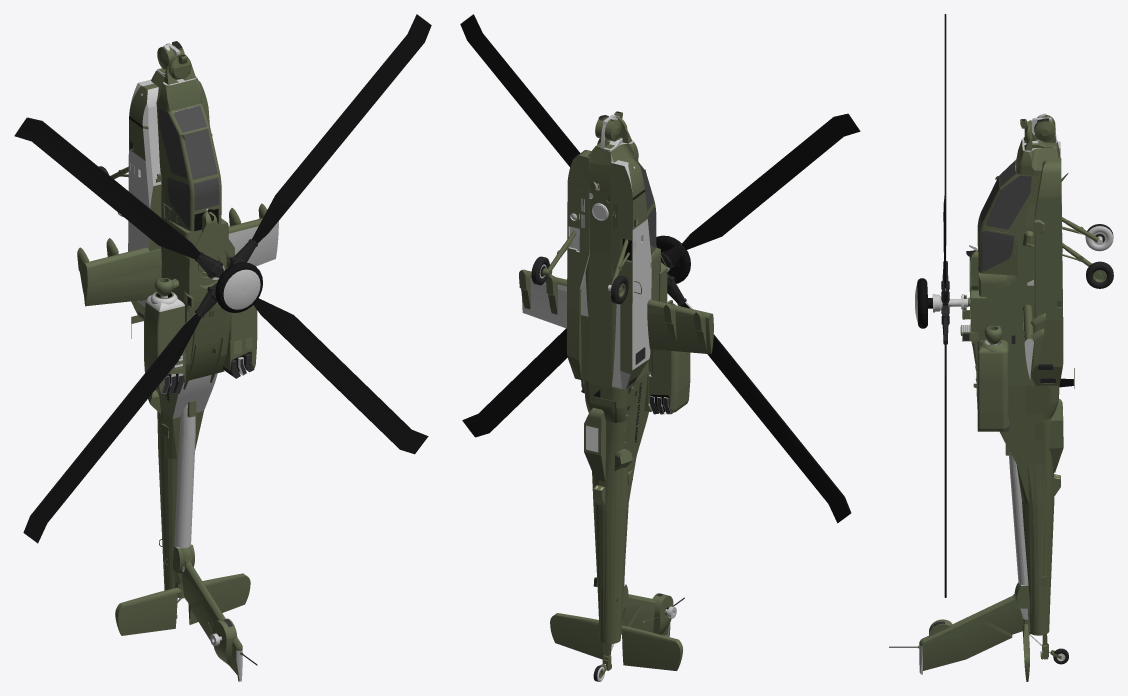
The model's file is 阿帕奇1.obj.
The picture shows the model from 3 angles, left to right: view 1: azimuth 30°, elevation 25°; view 2: azimuth 150°, elevation 25°; view 3: azimuth 270°, elevation 25°; orthographic projection. The views are drawn at different scales.
Visible parts, largest first — view 1: obj285, obj1029, obj14009, obj19839, obj27793, obj27328, obj25089, obj146, obj10937, obj24698, obj24875, obj12234; view 2: obj31165, obj28814, obj28720, obj10937, obj27826, obj25943, obj24721; view 3: obj1665, obj28833, obj9163, obj28911, obj1059, obj12935, obj29551, obj28350, obj28036, obj971, obj27786, obj28316 (+9 smaller).
Boxes of the visible parts, left/top/right/bottom form: obj285: left=183, top=129, right=215, bottom=174; obj1029: left=189, top=222, right=234, bottom=291; obj14009: left=159, top=306, right=184, bottom=354; obj19839: left=232, top=305, right=255, bottom=366; obj27793: left=148, top=106, right=161, bottom=186; obj27328: left=253, top=29, right=429, bottom=243; obj25089: left=25, top=314, right=200, bottom=531; obj146: left=162, top=135, right=187, bottom=178; obj10937: left=128, top=170, right=145, bottom=304; obj24698: left=30, top=119, right=200, bottom=259; obj24875: left=254, top=298, right=413, bottom=453; obj12234: left=173, top=105, right=206, bottom=132; obj31165: left=590, top=249, right=611, bottom=388; obj28814: left=567, top=183, right=589, bottom=311; obj28720: left=610, top=210, right=632, bottom=370; obj10937: left=632, top=242, right=650, bottom=369; obj27826: left=589, top=188, right=610, bottom=253; obj25943: left=625, top=376, right=643, bottom=458; obj24721: left=681, top=115, right=845, bottom=250; obj1665: left=981, top=226, right=1035, bottom=385; obj28833: left=1035, top=233, right=1061, bottom=320; obj9163: left=1016, top=385, right=1049, bottom=463; obj28911: left=1035, top=320, right=1063, bottom=367; obj1059: left=986, top=191, right=1024, bottom=229; obj12935: left=1036, top=197, right=1062, bottom=233; obj29551: left=922, top=599, right=1019, bottom=645; obj28350: left=1000, top=385, right=1016, bottom=463; obj28036: left=1025, top=386, right=1049, bottom=413; obj971: left=982, top=243, right=1012, bottom=271; obj27786: left=983, top=245, right=1017, bottom=275; obj28316: left=1001, top=334, right=1016, bottom=385.
Bounding box in the file's own units: 1221 × 1712 × 605.
